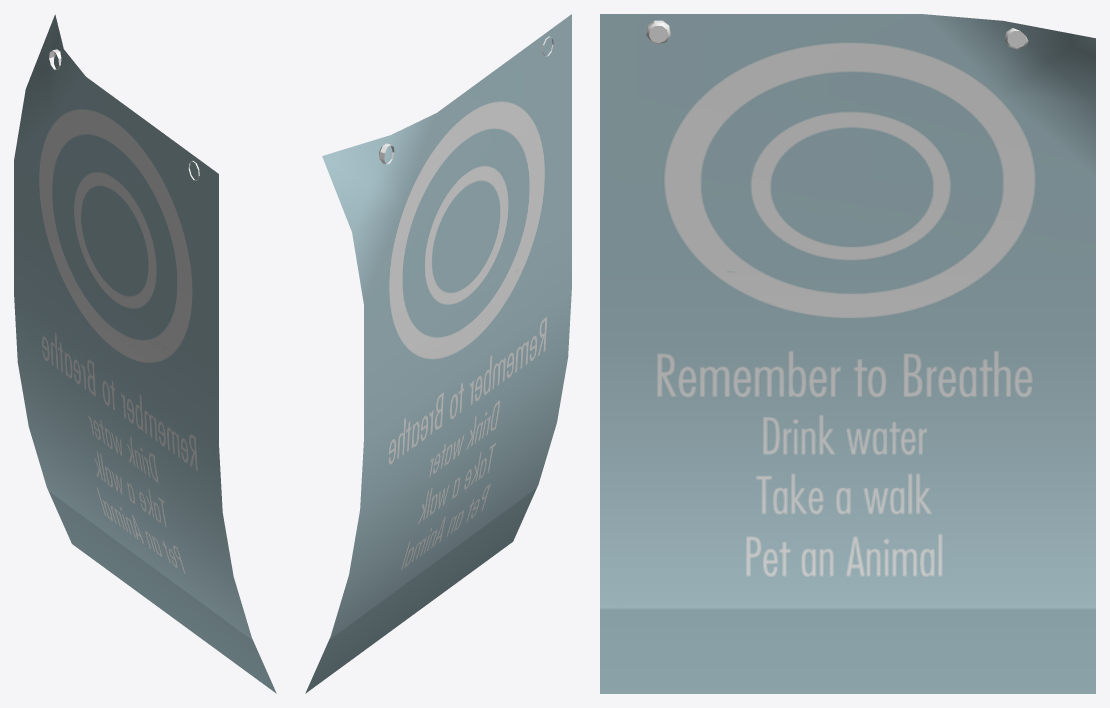
The model's file is SM_Poster01.fbx.
3 renders of one model, left to right at view 1: azimuth 30°, elevation 25°; view 2: azimuth 150°, elevation 25°; view 3: azimuth 270°, elevation 25°, orthographic. The views are drawn at different scales.
Visible parts, largest first — view 1: Poster01; view 2: Poster01; view 3: Poster01.
Part boxes in pixels (box(x1,y1,x2,y2)): Poster01: box(14, 14, 276, 693); Poster01: box(305, 14, 571, 693); Poster01: box(600, 14, 1095, 693).
Bounding box in the file's own units: 10.98 × 94.86 × 65.99.
1 material, 1 textured.
